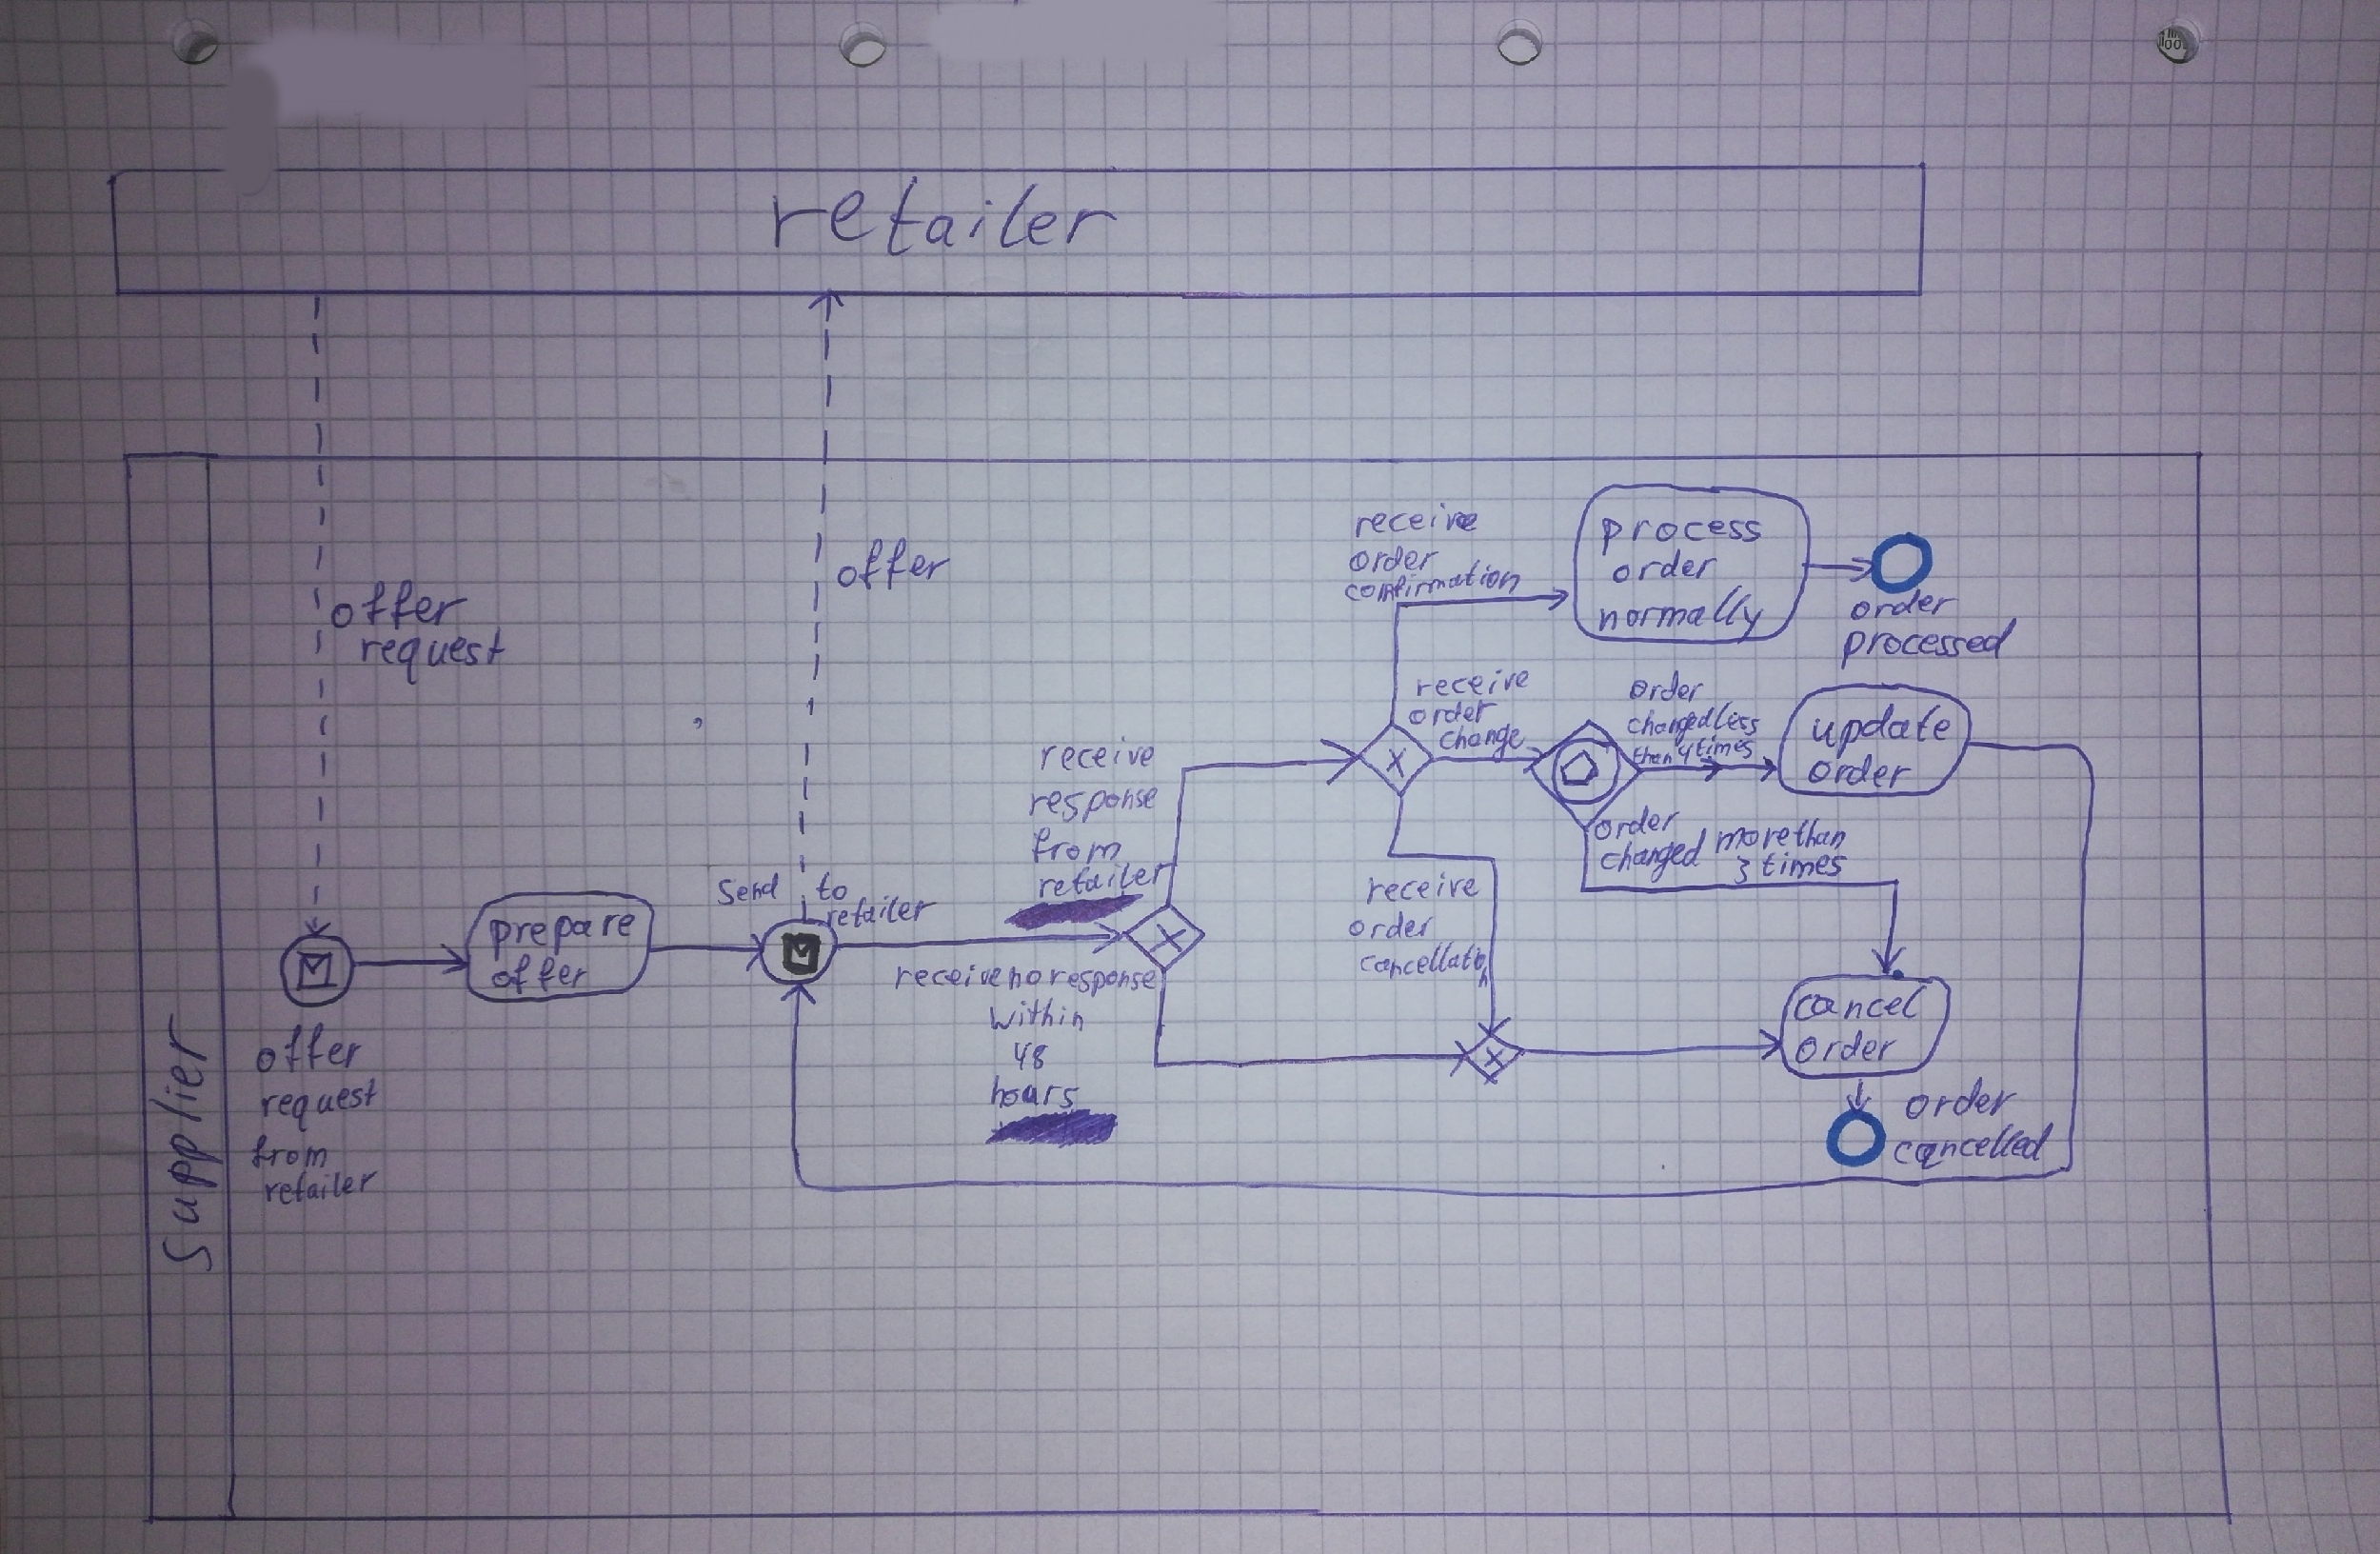4: (1679, 742, 1691, 763)
48: (1011, 1034, 1060, 1081)
Change: (1436, 721, 1523, 756)
Send: (723, 871, 774, 907)
cancel: (1792, 990, 1927, 1023)
cancellation: (1351, 945, 1490, 975)
cancelled: (1887, 1127, 2052, 1171)
changed: (1596, 827, 1710, 878)
changedless: (1625, 711, 1759, 734)
confirmation: (1339, 567, 1535, 612)
from: (1022, 827, 1126, 871), (241, 1127, 330, 1164)
hours: (989, 1077, 1076, 1112)
more: (1723, 822, 1782, 860)
no: (997, 961, 1048, 992)
normally: (1599, 593, 1764, 637)
offer: (328, 579, 472, 630), (827, 541, 951, 595), (255, 1032, 363, 1070), (493, 959, 588, 994)
order: (1788, 1025, 1903, 1068), (1608, 550, 1723, 591), (1811, 753, 1913, 793), (1853, 590, 1962, 624), (1337, 905, 1436, 943), (1903, 1093, 2011, 1122), (1594, 806, 1676, 843), (1351, 546, 1440, 576), (1627, 673, 1702, 708), (1400, 702, 1495, 727)
prepare: (503, 914, 623, 952)
process: (1598, 515, 1764, 555)
processed: (1841, 621, 2016, 663)
reatiler: (1037, 850, 1166, 905)
receive: (1034, 741, 1157, 775), (1351, 508, 1478, 541), (1412, 666, 1530, 701), (890, 959, 1003, 992), (1370, 871, 1476, 902)
request: (356, 630, 505, 671), (260, 1081, 375, 1126)
response: (1036, 784, 1148, 820), (1048, 963, 1155, 996)
retailer: (779, 182, 1114, 255), (829, 886, 933, 933), (262, 1172, 376, 1209)
supplier: (135, 1015, 234, 1271)
than: (1761, 817, 1875, 857)
then: (1627, 741, 1676, 770)
times: (1750, 848, 1849, 886), (1691, 734, 1757, 763)
to: (807, 869, 850, 902)
update: (1814, 706, 1955, 753)
within: (982, 999, 1093, 1032)
